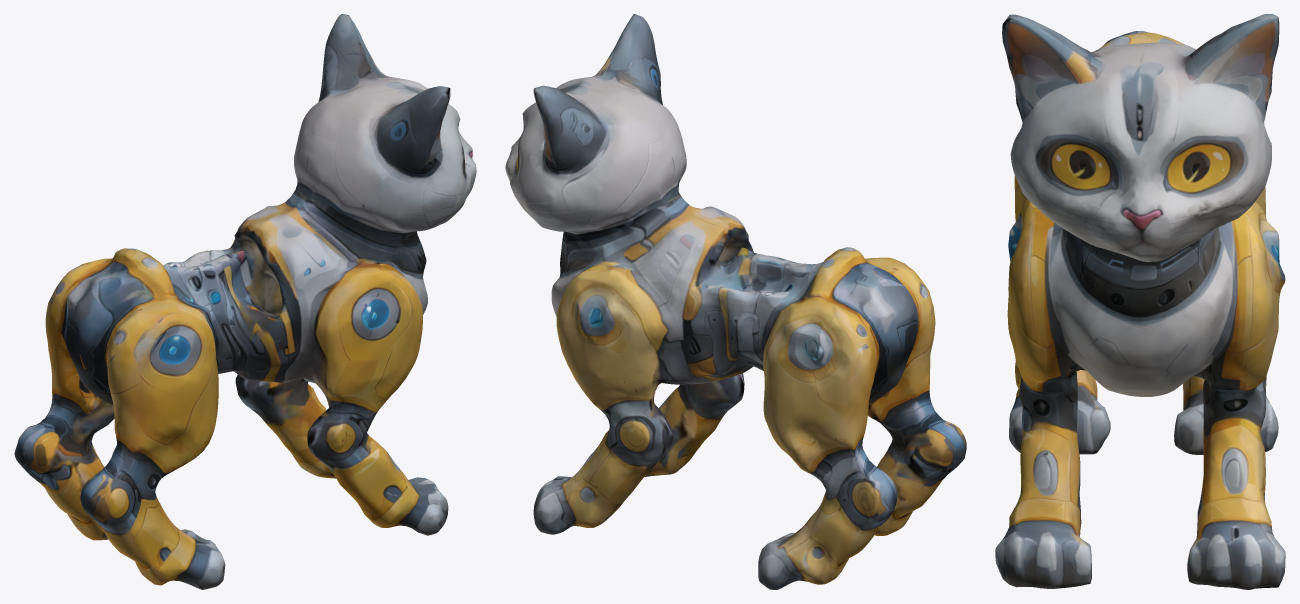
The picture shows the model from 3 angles, left to right: view 1: azimuth 30°, elevation 25°; view 2: azimuth 150°, elevation 25°; view 3: azimuth 270°, elevation 25°; orthographic projection. The views are drawn at different scales.
Size of the model in its own units: 1.17 by 1.2 by 0.543.
Materials: 1 (1 with a texture image).
